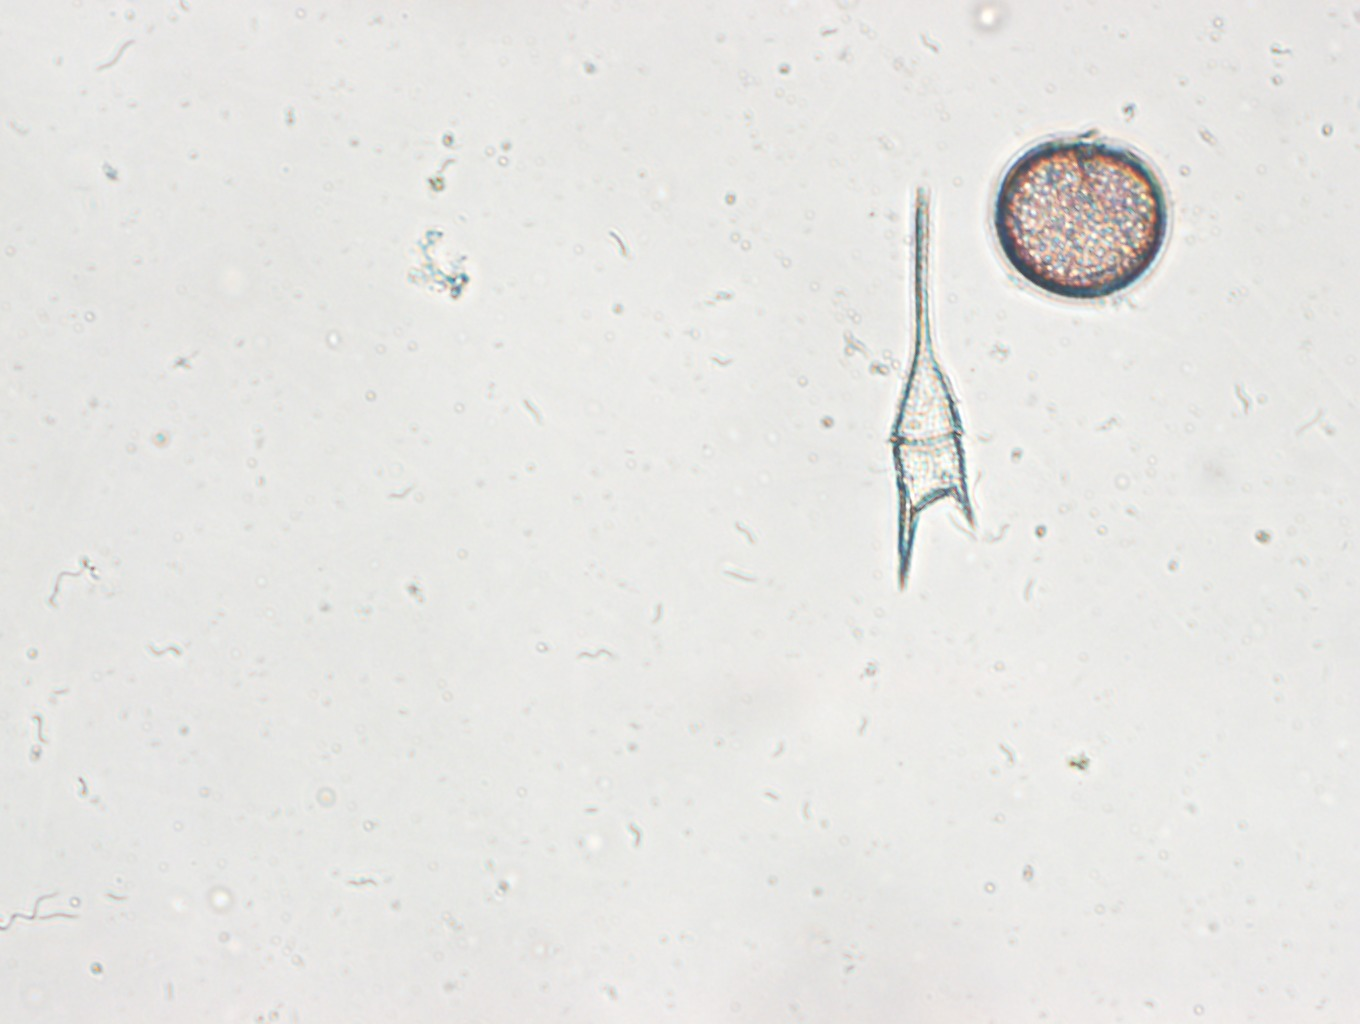ceratium furca: (886, 180, 982, 591)
coscinodiscus: (985, 123, 1175, 308)
